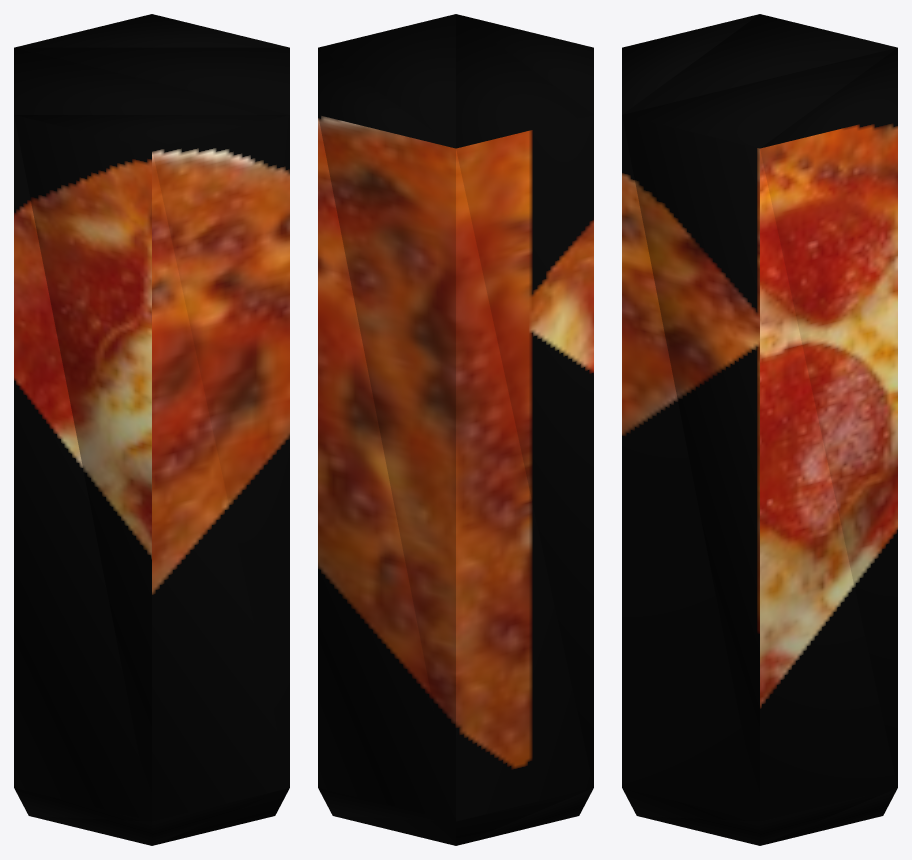
File: lata.glb
3 views of the same model, side by side, from view 1: azimuth 30°, elevation 25°; view 2: azimuth 150°, elevation 25°; view 3: azimuth 270°, elevation 25° (orthographic).
Visible parts, largest first — view 1: lata; view 2: lata; view 3: lata.
Boxes of the visible parts, x1,y1,x2,y2 form: lata: (14,14,289,845); lata: (318,14,593,845); lata: (622,14,897,845).
Bounding box in the file's own units: 0.0492 × 0.12 × 0.0426.
1 material, 1 textured.
